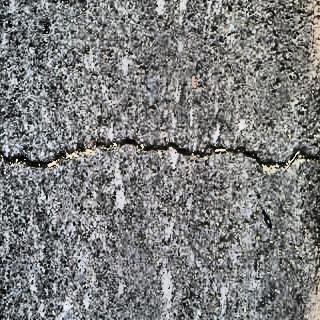crack: (0, 135, 320, 171)
